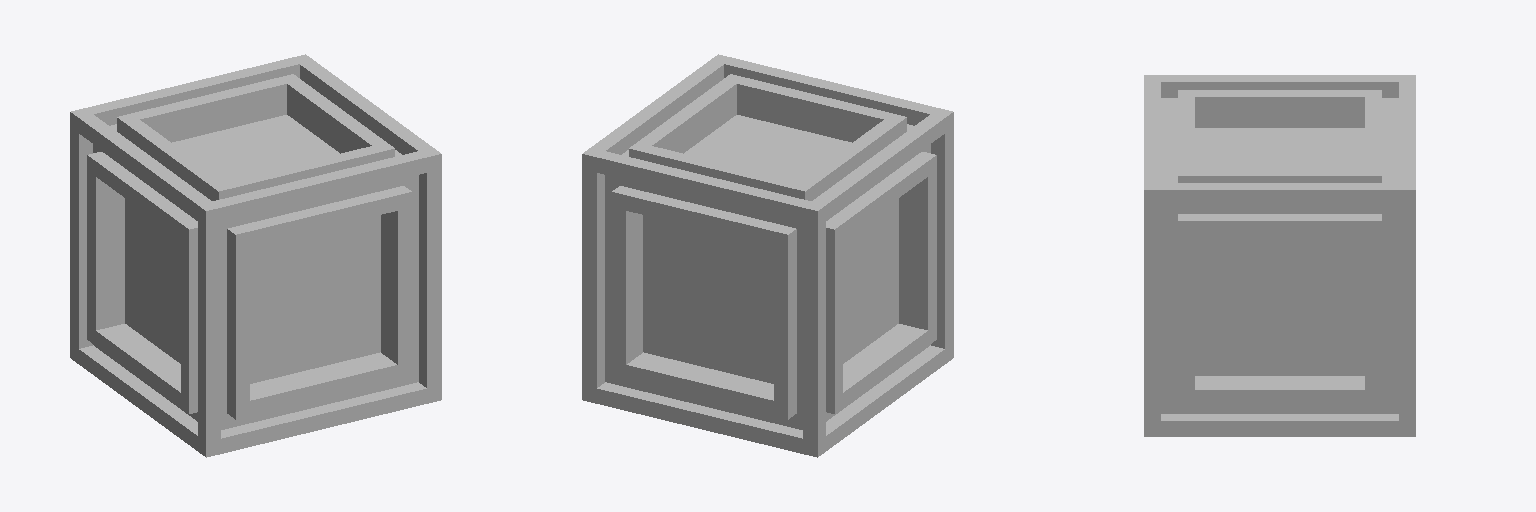
Rendered from cubiods.obj.
3 views of the same model, side by side, from view 1: azimuth 30°, elevation 25°; view 2: azimuth 150°, elevation 25°; view 3: azimuth 270°, elevation 25° (orthographic).
Parts seen in each view (by area): view 1: Cube; view 2: Cube; view 3: Cube.
Part boxes in pixels (bbox=[...]): Cube: bbox=[70, 54, 441, 457]; Cube: bbox=[582, 54, 953, 457]; Cube: bbox=[1144, 75, 1415, 436].
Bounding box in the file's own units: 1.5 × 1.5 × 1.5.